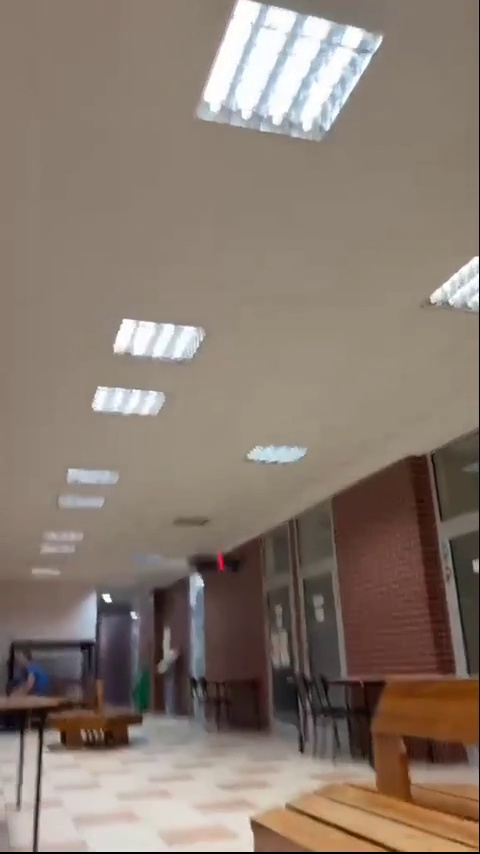drone: (196, 550, 239, 581)
no vest: (9, 647, 53, 704)
